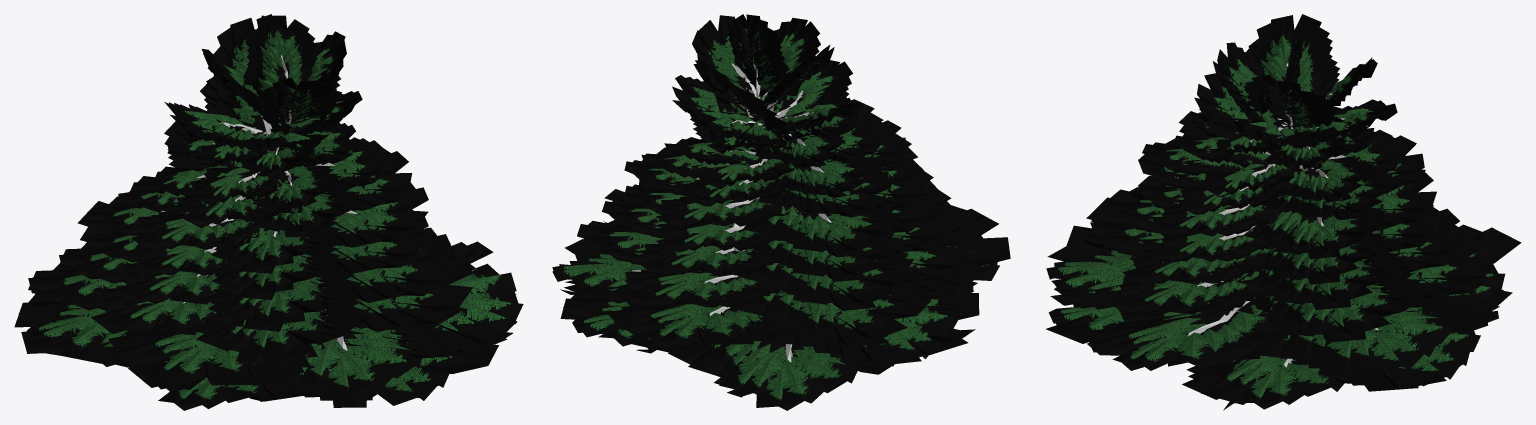
File: bättreträd.fbx
3 renders of one model, left to right at view 1: azimuth 30°, elevation 25°; view 2: azimuth 150°, elevation 25°; view 3: azimuth 270°, elevation 25°, orthographic. The views are drawn at different scales.
Visible parts, largest first — view 1: granbarrr.040; view 2: granbarrr.040; view 3: granbarrr.040.
Part boxes in pixels (<box>): granbarrr.040: <box>14,14,523,410</box>; granbarrr.040: <box>552,14,1010,410</box>; granbarrr.040: <box>1045,14,1521,410</box>.
Size of the model in its own units: 1144 by 858 by 1119.
